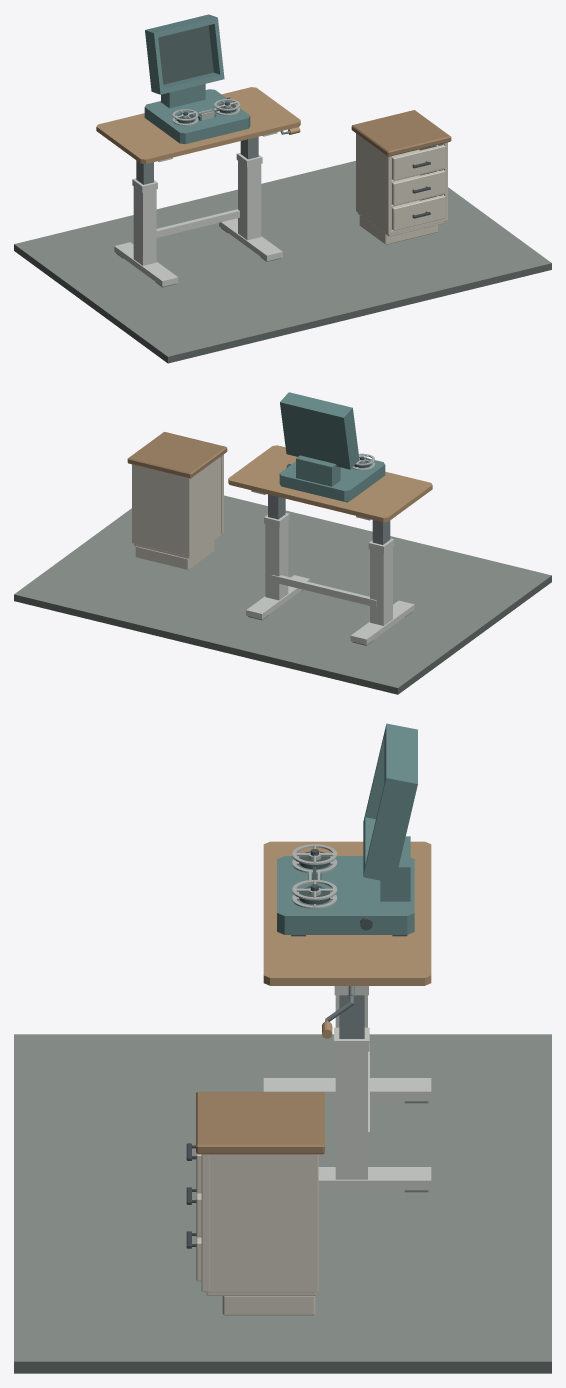
The picture shows the model from 3 angles, top to bottom: view 1: azimuth 30°, elevation 25°; view 2: azimuth 150°, elevation 25°; view 3: azimuth 270°, elevation 25°; orthographic projection. The views are drawn at different scales.
Parts seen in each view (by area): view 1: SCENE_ONLY__DisplayFloor, desk__WholeLevelWritingTop, reader__WholeLowReaderDeck, cabinet__Countertop, reader__WholeRecessedScreenHood, cabinet__Side wall, reader__WholeOpaqueBlankRecessedScreen, desk__WholeOpenUpperOuterColumn_-1, desk__WholeOpenUpperOuterColumn_1, cabinet__Drawer front 2, cabinet__Drawer front 0, cabinet__Drawer front 1 (+6 smaller); view 2: SCENE_ONLY__DisplayFloor, desk__WholeLevelWritingTop, reader__WholeRecessedScreenHood, cabinet__Rear panel, cabinet__Countertop, cabinet__Side wall, reader__WholeLowReaderDeck, desk__WholeOpenUpperOuterColumn_-1, desk__WholeOpenUpperOuterColumn_1, reader__WholeDeepRearScreenSupport, desk__WholeLowerRearCrossTie, cabinet__Recessed plinth (+4 smaller); view 3: SCENE_ONLY__DisplayFloor, cabinet__Side wall.001, desk__WholeLevelWritingTop, cabinet__Countertop, reader__WholeLowReaderDeck, reader__WholeRecessedScreenHood, desk__WholeOpenUpperOuterColumn_1, desk__WholeLongTGroundFoot_-1, desk__WholeLongTGroundFoot_1, cabinet__Recessed plinth, cabinet__Continuous front frame, reader__WholeDeepRearScreenSupport (+1 smaller).
Part boxes in pixels (x1,y1,x2,y2): SCENE_ONLY__DisplayFloor: (14, 161, 551, 363); desk__WholeLevelWritingTop: (96, 87, 300, 163); reader__WholeLowReaderDeck: (144, 89, 250, 144); cabinet__Countertop: (351, 110, 451, 156); reader__WholeRecessedScreenHood: (145, 14, 224, 94); cabinet__Side wall: (356, 133, 391, 234); reader__WholeOpaqueBlankRecessedScreen: (158, 25, 213, 84); desk__WholeOpenUpperOuterColumn_-1: (133, 186, 156, 265); desk__WholeOpenUpperOuterColumn_1: (238, 161, 261, 240); cabinet__Drawer front 2: (392, 145, 445, 180); cabinet__Drawer front 0: (392, 195, 445, 230); cabinet__Drawer front 1: (392, 170, 445, 205); SCENE_ONLY__DisplayFloor: (14, 495, 551, 694); desk__WholeLevelWritingTop: (228, 445, 432, 522); reader__WholeRecessedScreenHood: (280, 392, 359, 469); cabinet__Rear panel: (135, 465, 186, 556); cabinet__Countertop: (127, 432, 227, 478); cabinet__Side wall: (186, 456, 221, 557); reader__WholeLowReaderDeck: (279, 456, 385, 501); desk__WholeOpenUpperOuterColumn_-1: (370, 546, 392, 625); desk__WholeOpenUpperOuterColumn_1: (265, 521, 288, 600); reader__WholeDeepRearScreenSupport: (296, 455, 340, 486); desk__WholeLowerRearCrossTie: (271, 575, 376, 607); cabinet__Recessed plinth: (135, 541, 214, 570); SCENE_ONLY__DisplayFloor: (14, 1034, 551, 1373); cabinet__Side wall.001: (204, 1154, 318, 1292); desk__WholeLevelWritingTop: (263, 841, 431, 985); cabinet__Countertop: (196, 1091, 324, 1154); reader__WholeLowReaderDeck: (277, 856, 414, 934); reader__WholeRecessedScreenHood: (363, 723, 417, 883); desk__WholeOpenUpperOuterColumn_1: (335, 1051, 367, 1179); desk__WholeLongTGroundFoot_-1: (263, 1078, 431, 1101); desk__WholeLongTGroundFoot_1: (318, 1167, 431, 1190); cabinet__Recessed plinth: (222, 1296, 315, 1315); cabinet__Continuous front frame: (201, 1154, 209, 1291); reader__WholeDeepRearScreenSupport: (380, 836, 410, 901).
Bounding box in the file's own units: 3.6 × 2.06 × 2.5.
